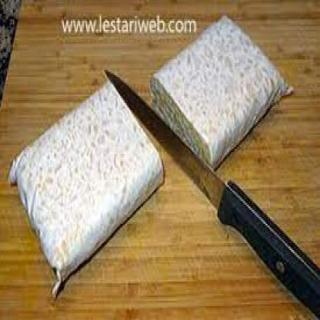Tempe: (8, 81, 167, 299), (149, 14, 296, 172)
